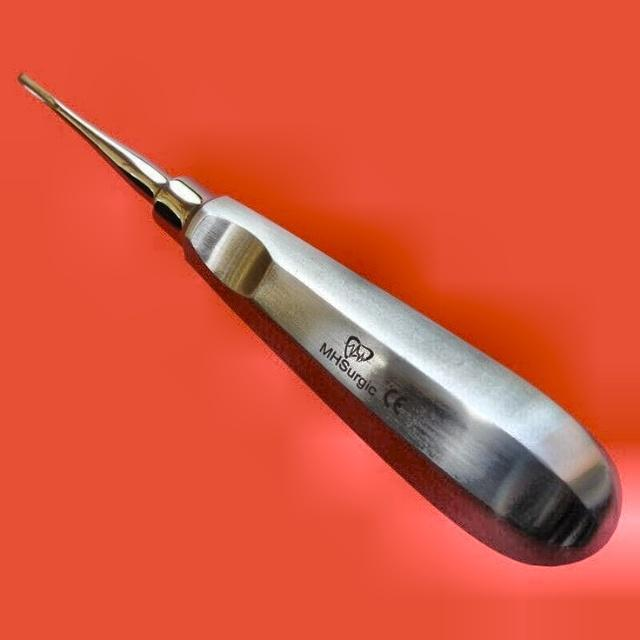botador: (16, 75, 624, 568)
